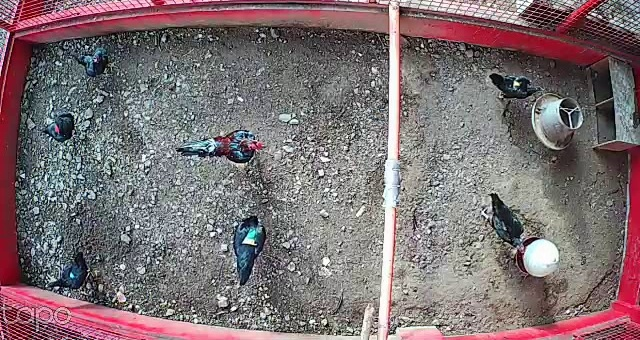Chicken: (476, 183, 529, 256), (226, 210, 275, 287), (43, 253, 100, 293), (485, 68, 546, 103), (70, 45, 121, 80), (40, 109, 85, 145)
Rooster: (173, 127, 268, 164)
Saddle_Color_Blue: (70, 272, 75, 278)
Saddle_Color_Red: (54, 124, 60, 133)
Saddle_Color_Yellow: (511, 77, 520, 90)
Saddle_Color_YellowGreen: (244, 230, 259, 247)
